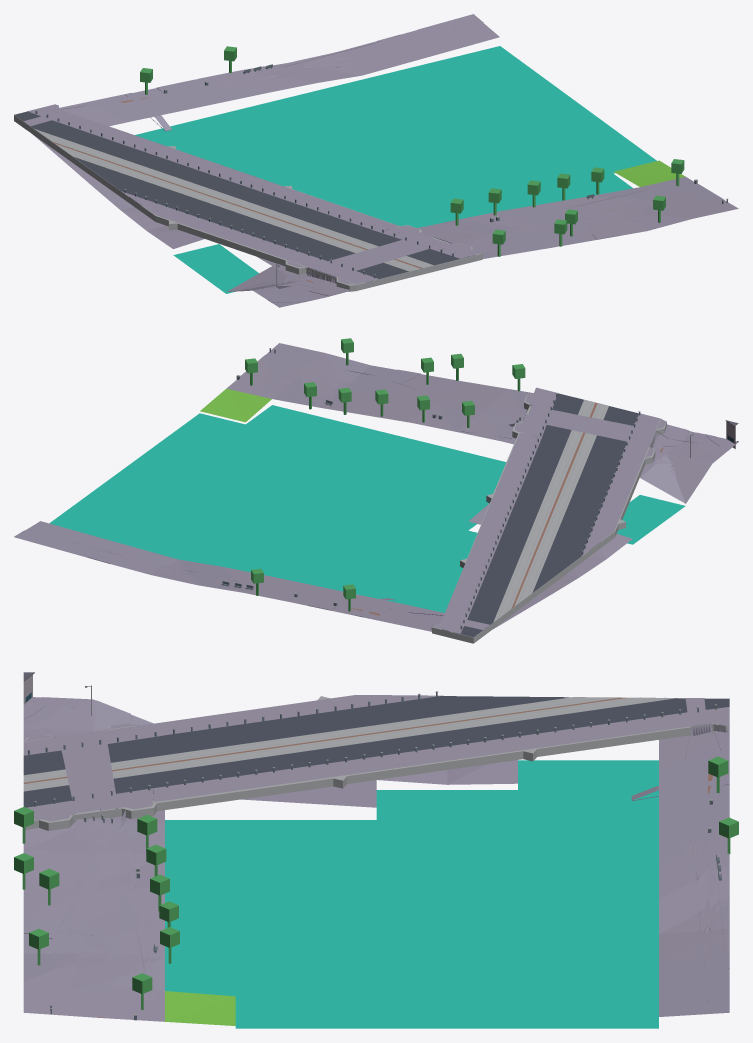
The picture shows the model from 3 angles, top to bottom: view 1: azimuth 30°, elevation 25°; view 2: azimuth 150°, elevation 25°; view 3: azimuth 270°, elevation 25°; orthographic projection. The views are drawn at different scales.
Parts seen in each view (by area): view 1: compiled-chunk; view 2: compiled-chunk; view 3: compiled-chunk.
Part boxes in pixels (left/top/right/bottom): compiled-chunk: left=14, top=14, right=738, bottom=307; compiled-chunk: left=14, top=338, right=738, bottom=643; compiled-chunk: left=14, top=672, right=738, bottom=1028.
Bounding box in the file's own units: 120 × 11.68 × 123.
